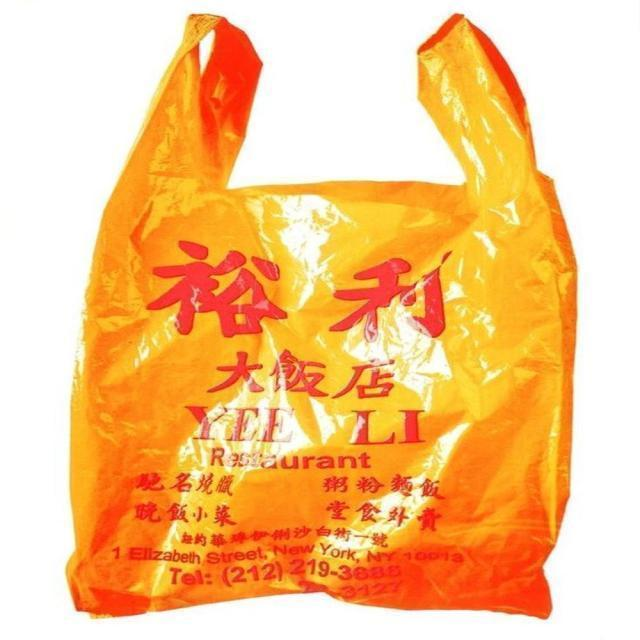Plastic_Bag: (61, 24, 573, 624)
